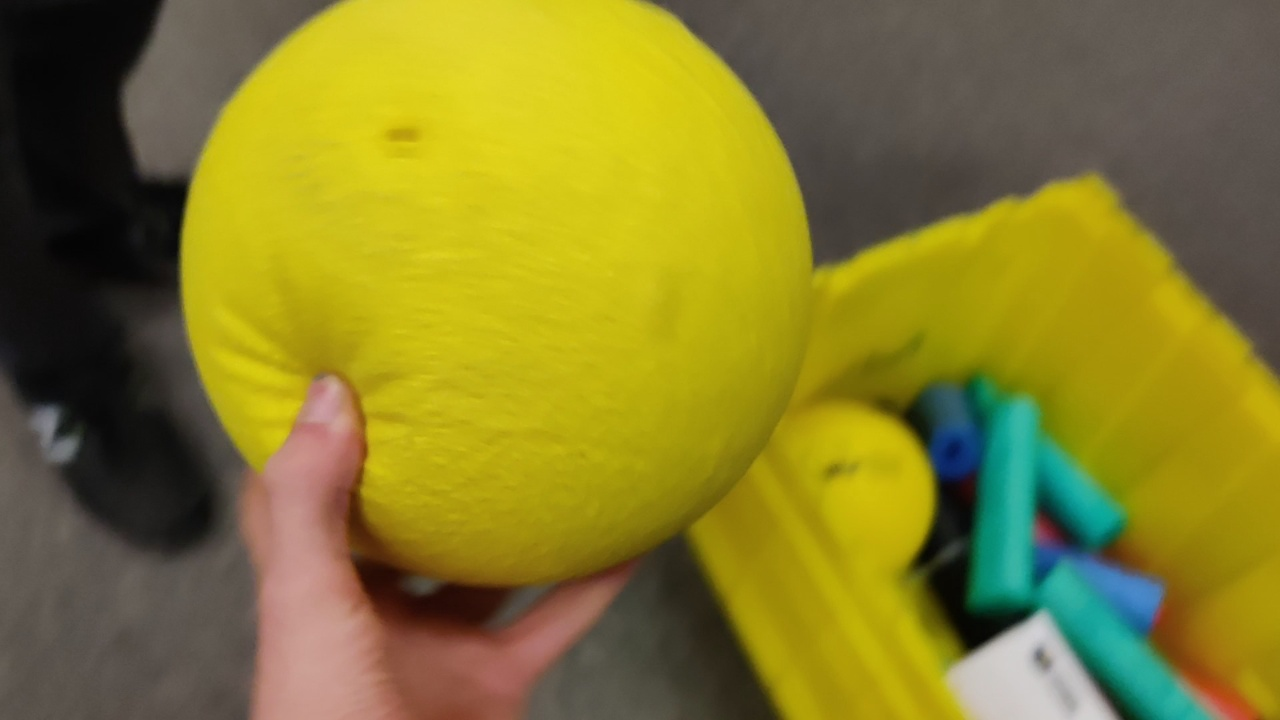Ball: (181, 7, 809, 571)
